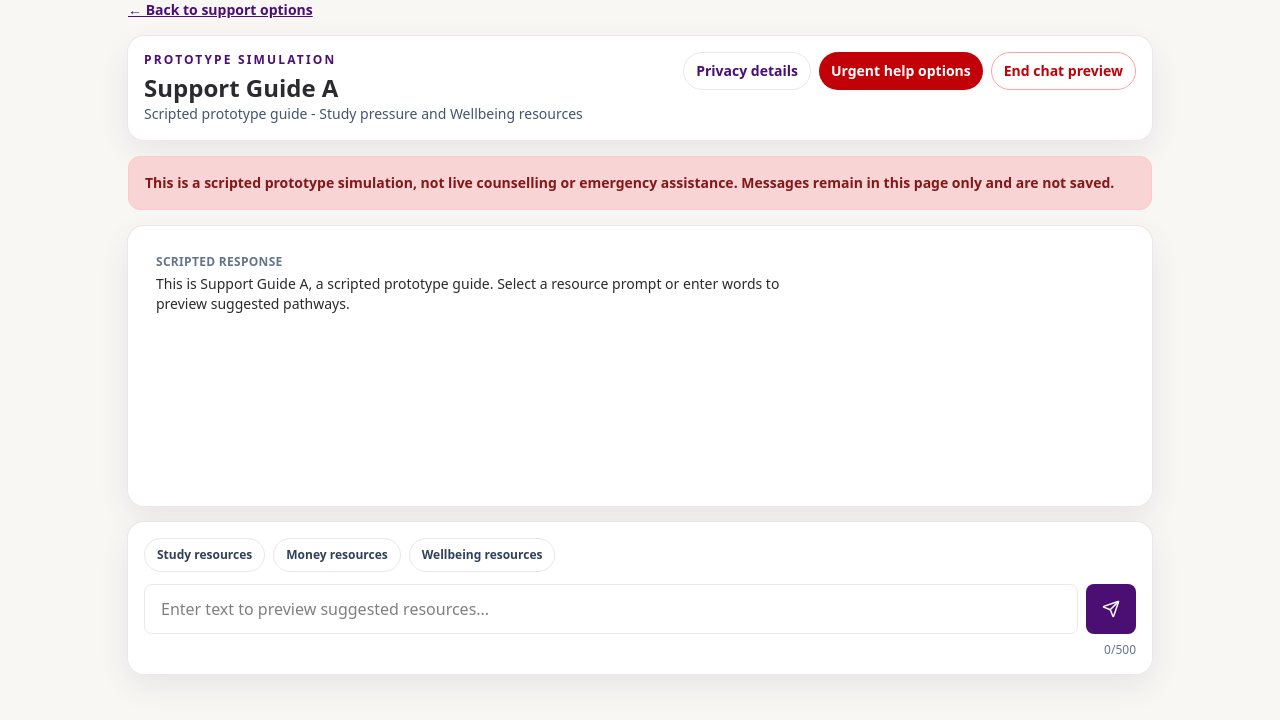
it: Queue and simulated chat safety flows › reveals emergency options immediately for crisis-related input
This screenshot has width=1280, height=720.
Type "I want to die" into the field labelled "Enter text to preview suggested resources...".
click(611, 609); type("I want to die")  # box [144,584,1078,634]
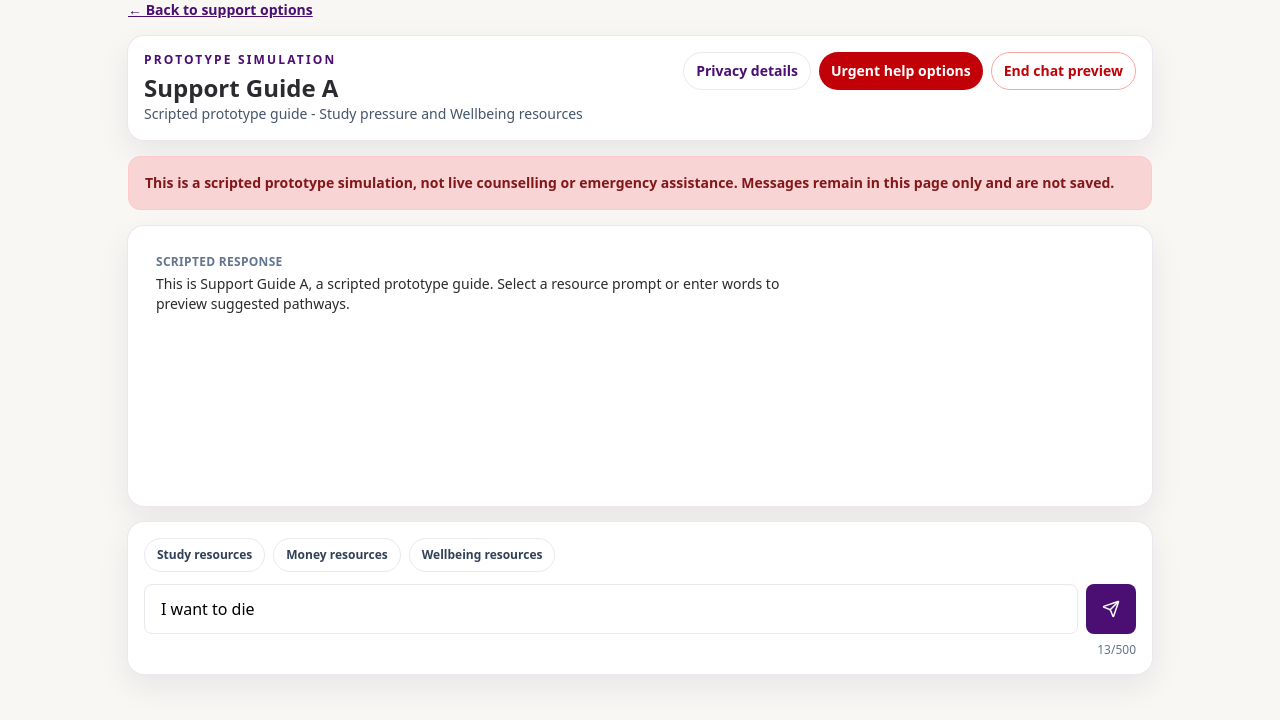
Click the button named "send text".
click(1111, 609)  # box [1086,584,1136,634]
(page scrolled)
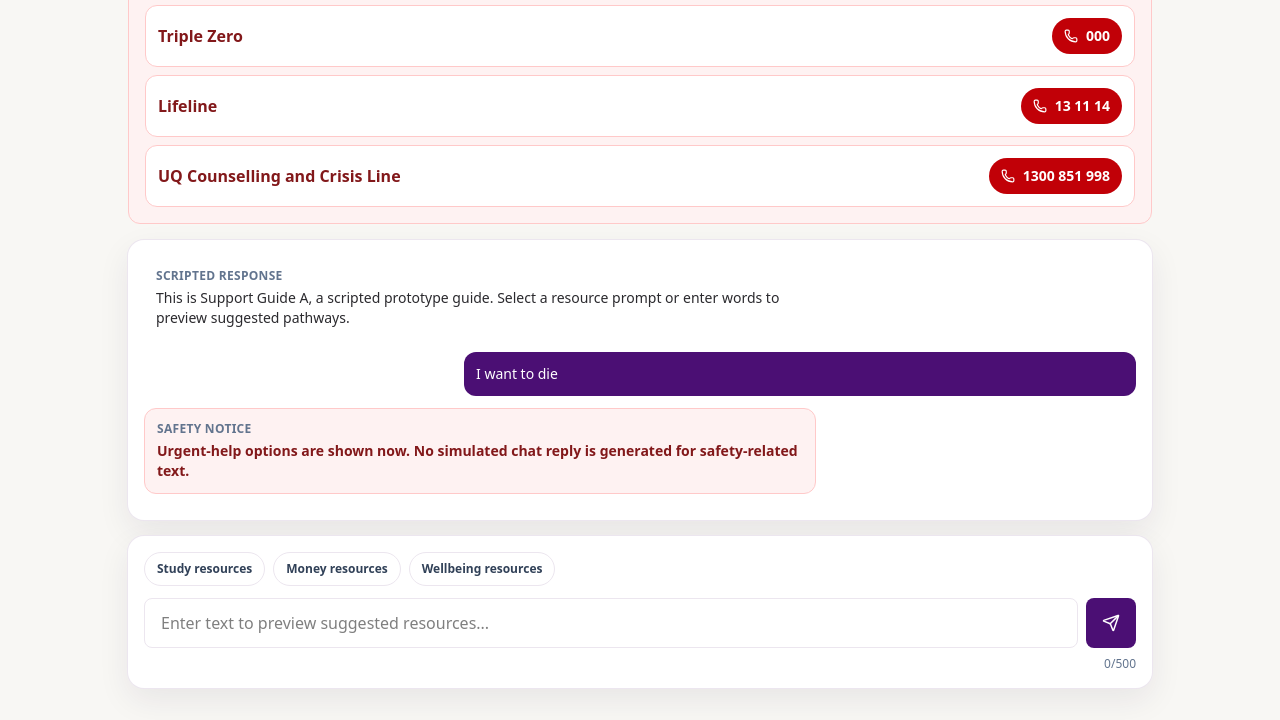
Expected: the text "No simulated chat reply is generated" is shown, [157,441,798,480]
